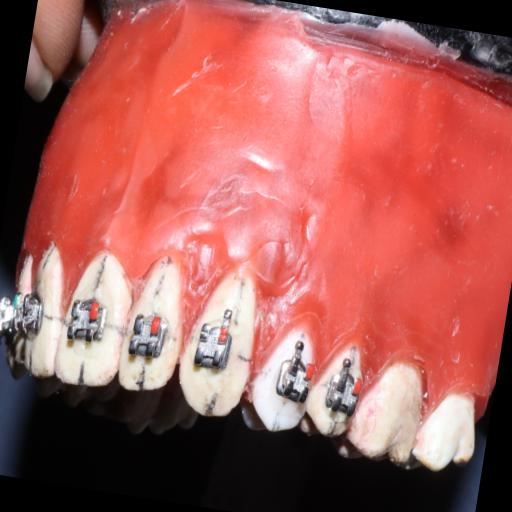incorrect_brace: (186, 311, 237, 380)
